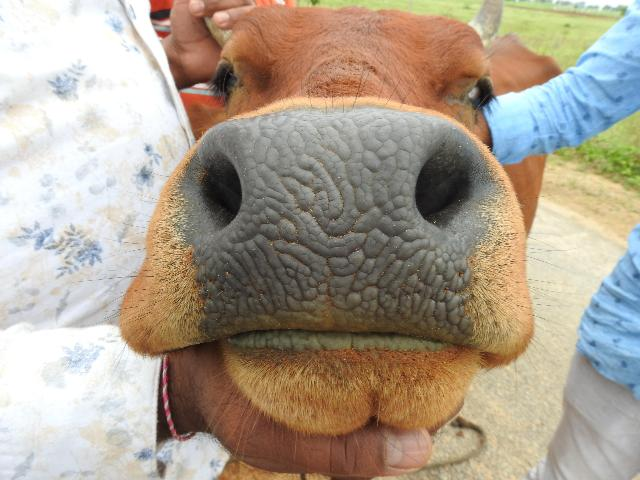Muzzle: (230, 119, 424, 320)
